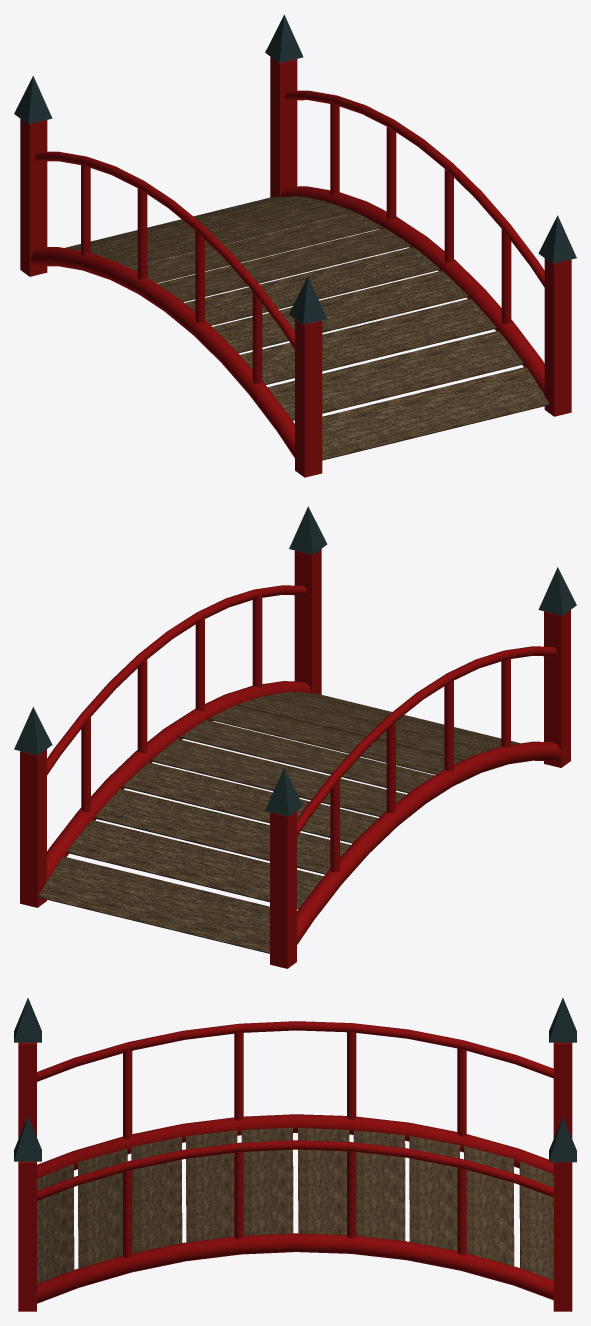
The model's file is Brücke.DAE.
The picture shows the model from 3 angles, top to bottom: view 1: azimuth 30°, elevation 25°; view 2: azimuth 150°, elevation 25°; view 3: azimuth 270°, elevation 25°; orthographic projection. The views are drawn at different scales.
Visible parts, largest first — view 1: Quader015, Quader014, Quader013, Tube001, Quader012, Quader011, Quader010, Tube002, Quader009, Quader003, Quader004, Quader001 (+18 smaller); view 2: Quader005, Quader006, Quader008, Tube001, Quader009, Quader010, Quader011, Tube002, Quader012, Quader001, Quader002, Quader003 (+18 smaller); view 3: Tube002, Tube001, Tube004, Tube003, Quader011, Quader013, Quader009, Quader012, Quader008, Quader010, Quader006, Quader014 (+18 smaller).
Part boxes in pixels (<box>): Quader015: <box>294,366,549,460</box>; Quader014: <box>268,330,523,420</box>; Quader013: <box>240,298,496,384</box>; Tube001: <box>30,247,294,457</box>; Quader012: <box>212,270,468,353</box>; Quader011: <box>184,247,440,325</box>; Quader010: <box>157,228,411,302</box>; Tube002: <box>280,186,544,394</box>; Quader009: <box>129,212,382,283</box>; Quader003: <box>295,319,322,477</box>; Quader004: <box>544,258,571,416</box>; Quader001: <box>20,119,47,276</box>; Quader005: <box>37,856,269,953</box>; Quader006: <box>66,820,323,909</box>; Quader008: <box>94,789,350,874</box>; Tube001: <box>297,741,560,944</box>; Quader009: <box>122,762,378,843</box>; Quader010: <box>151,739,406,816</box>; Quader011: <box>180,720,434,793</box>; Tube002: <box>47,681,311,880</box>; Quader012: <box>208,705,461,774</box>; Quader001: <box>270,811,296,968</box>; Quader002: <box>20,749,46,907</box>; Quader003: <box>544,610,570,767</box>; Tube002: <box>37,1233,553,1303</box>; Tube001: <box>37,1114,553,1178</box>; Tube004: <box>37,1140,553,1200</box>; Tube003: <box>37,1021,553,1081</box>; Quader011: <box>241,1127,293,1235</box>; Quader013: <box>131,1137,182,1253</box>; Quader009: <box>353,1130,405,1241</box>; Quader012: <box>186,1130,237,1242</box>; Quader008: <box>409,1136,459,1250</box>; Quader010: <box>298,1128,349,1234</box>; Quader006: <box>464,1146,514,1266</box>; Quader014: <box>78,1148,127,1268</box>.
Bounding box in the file's own units: 66.16 × 120 × 45.02.
